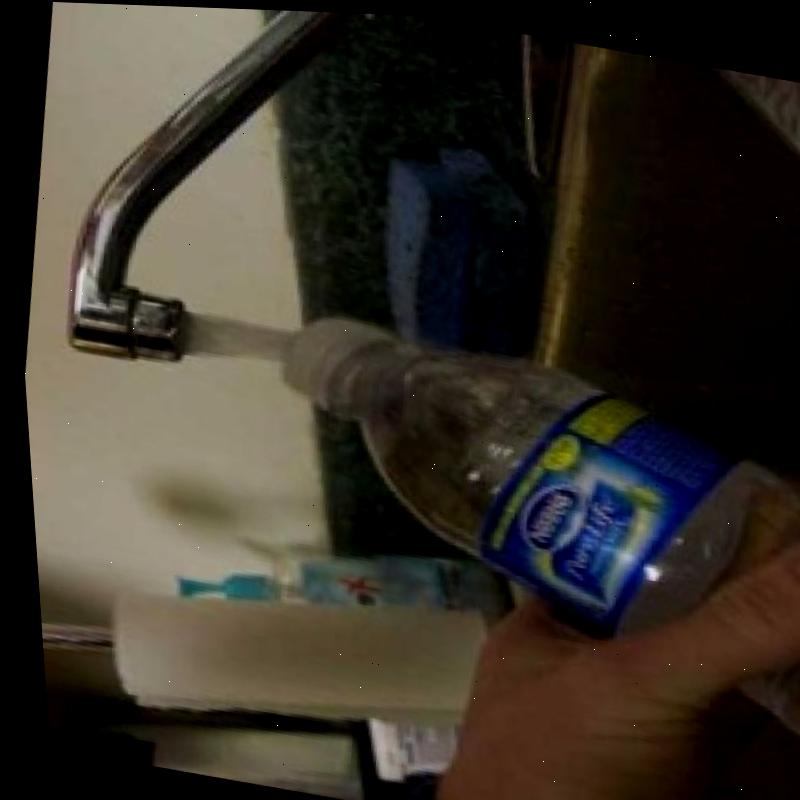botella: (234, 301, 800, 726)
